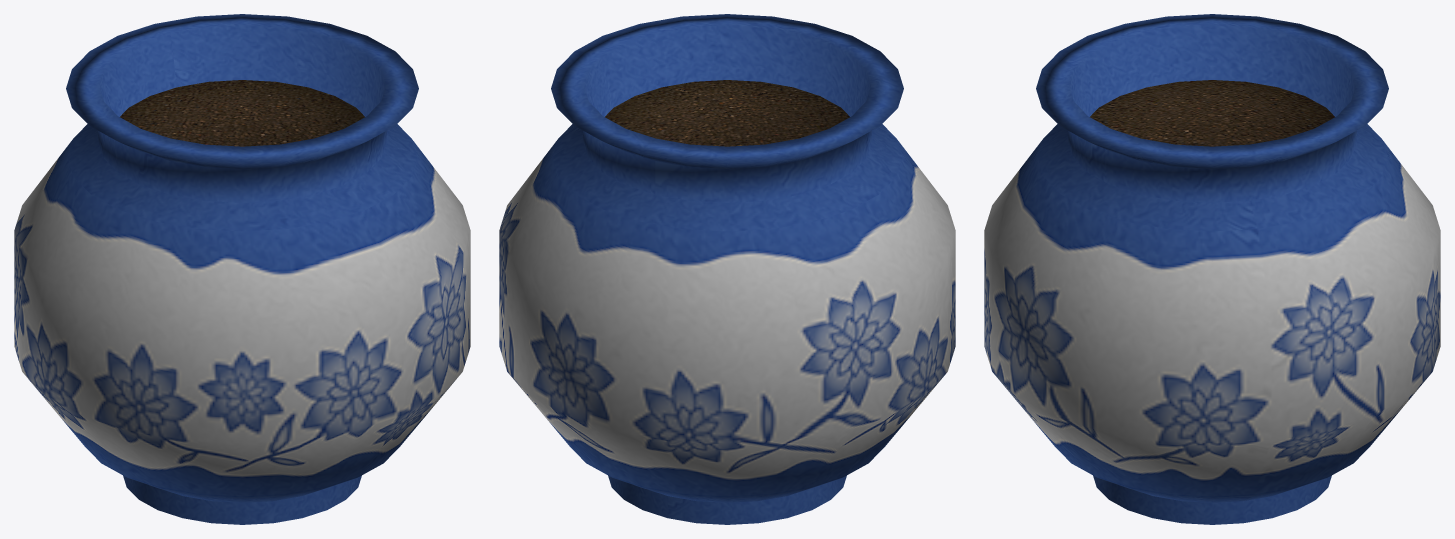
File: Furniture_flowerpot_02a_LOD1.fbx
3 renders of one model, left to right at view 1: azimuth 30°, elevation 25°; view 2: azimuth 150°, elevation 25°; view 3: azimuth 270°, elevation 25°, orthographic.
Parts seen in each view (by area): view 1: Furniture_foliagepot_02a_LOD1; view 2: Furniture_foliagepot_02a_LOD1; view 3: Furniture_foliagepot_02a_LOD1.
Part boxes in pixels (bbox=[...]): Furniture_foliagepot_02a_LOD1: bbox=[14, 14, 470, 524]; Furniture_foliagepot_02a_LOD1: bbox=[499, 14, 955, 524]; Furniture_foliagepot_02a_LOD1: bbox=[984, 14, 1440, 524].
Bounding box in the file's own units: 29.68 × 27.88 × 29.68.
